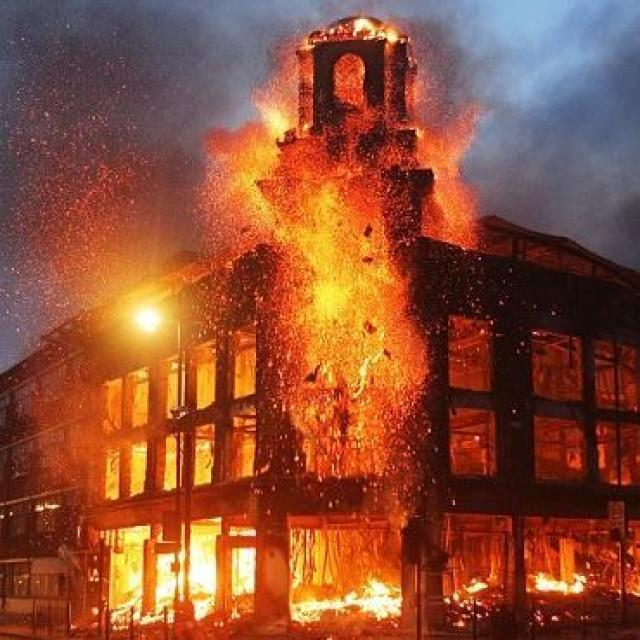Fire: (218, 32, 506, 486), (82, 350, 314, 515), (129, 523, 230, 623), (290, 576, 426, 637), (229, 532, 272, 608), (523, 560, 604, 598), (114, 556, 150, 614), (456, 566, 498, 604)
Smoke: (0, 67, 194, 282), (512, 68, 640, 249)
